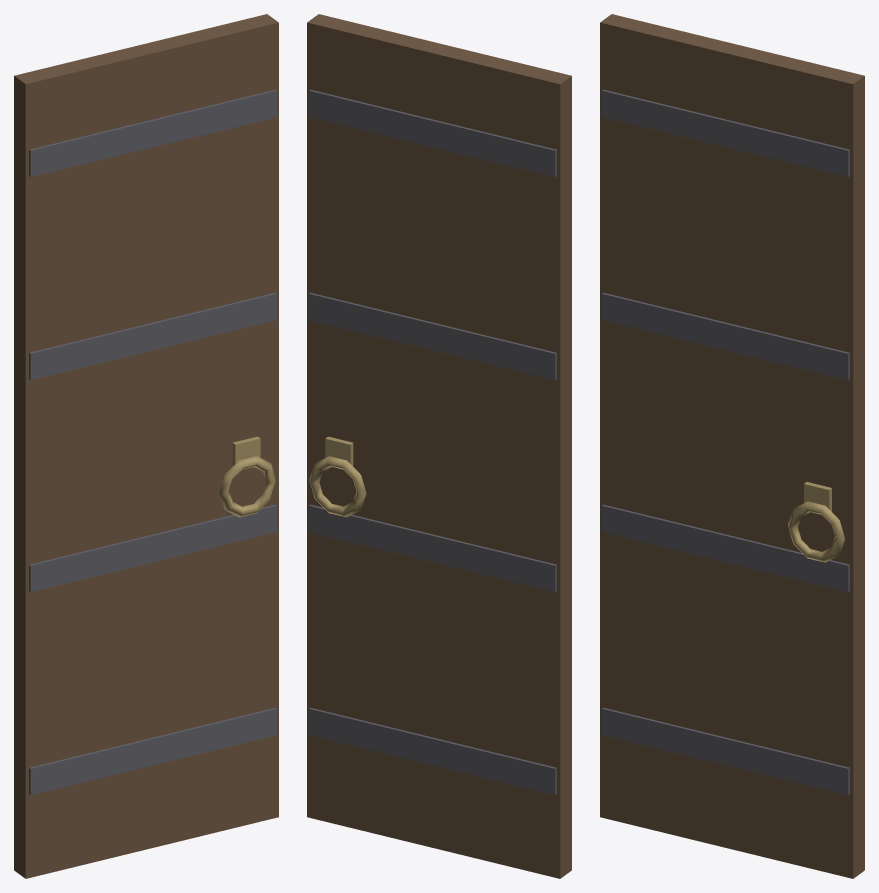
The model's file is GreatDoorLeaf.fbx.
The picture shows the model from 3 angles, left to right: view 1: azimuth 30°, elevation 25°; view 2: azimuth 150°, elevation 25°; view 3: azimuth 330°, elevation 25°; orthographic projection.
Visible parts, largest first — view 1: GreatDoorLeaf; view 2: GreatDoorLeaf; view 3: GreatDoorLeaf.
Boxes of the visible parts, x1,y1,x2,y2 form: GreatDoorLeaf: (14,14,278,878); GreatDoorLeaf: (307,14,571,878); GreatDoorLeaf: (600,14,864,878).
Size of the model in its own units: 1.5 by 4.5 by 0.24.
